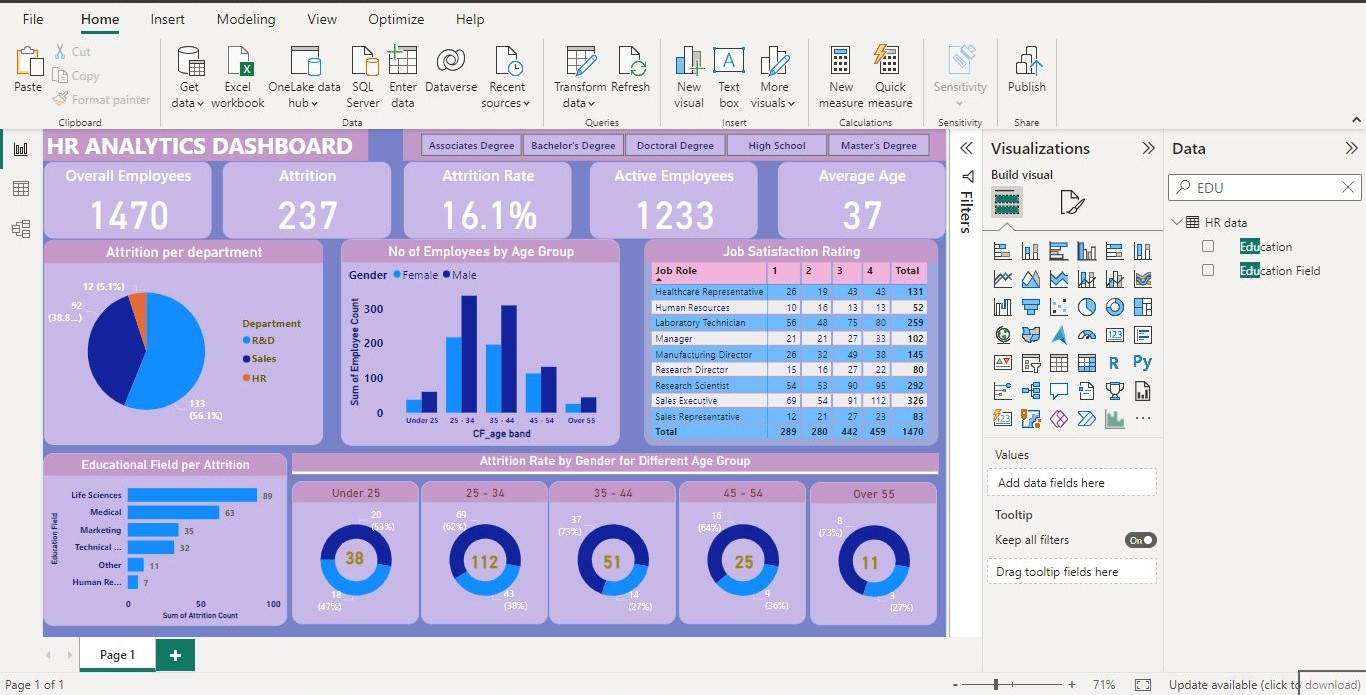

The page's visual inventory and layout, read from the dashboard file:
{"tool":"powerbi","page":{"name":"Page 1","canvas":[1280,720],"ordinal":0},"visuals":[{"type":"card","title":"Overall Employees","fields":{"Values":["Sum(HR data.Employee Count)"]},"box":[0,45.4,239.5,110.6],"z":0},{"type":"card","title":"Attrition Rate ","fields":{"Values":["HR data.Attrition Rate"]},"box":[510.2,45.4,239.5,110.6],"z":1000},{"type":"card","title":"Attrition","fields":{"Values":["Sum(HR data.Attrition Count)"]},"box":[253.7,45.4,240.9,110.6],"z":2000},{"type":"card","title":"Active Employees","fields":{"Values":["HR data.Active Employees"]},"box":[773.9,45.4,239.5,110.6],"z":3000},{"type":"card","title":"Average Age ","fields":{"Values":["Avg(HR data.Age)"]},"box":[1040.3,45.4,239.5,110.6],"z":4000},{"type":"pieChart","title":"Attrition per department ","fields":{"Category":["HR data.Department"],"Y":["Sum(HR data.Attrition Count)"]},"box":[0,155.9,398.3,293.4],"z":5000},{"type":"clusteredColumnChart","title":"No of Employees by Age Group","fields":{"Category":["HR data.CF_age band"],"Y":["Sum(HR data.Employee Count)"],"Series":["HR data.Gender"]},"box":[422.4,155.9,395.4,293.4],"z":6000},{"type":"pivotTable","title":"Job Satisfaction Rating","fields":{"Rows":["HR data.Job Role"],"Columns":["HR data.Job Satisfaction"],"Values":["Sum(HR data.Employee Count)"]},"box":[851.8,155.9,416.7,293.4],"z":7000},{"type":"barChart","title":"Educational Field per Attrition ","fields":{"Category":["HR data.Education Field"],"Y":["Sum(HR data.Attrition Count)"]},"box":[0,459.2,345.8,245.2],"z":8000},{"type":"donutChart","title":"Under 25","fields":{"Category":["HR data.Gender"],"Y":["Sum(HR data.Attrition Count)"],"Series":["HR data.CF_age band"]},"box":[352.9,498.9,180,203],"z":9000},{"type":"textbox","title":"Attrition Rate by Gender for Different Age Group","box":[352.9,459.2,915.6,29.8],"z":10000},{"type":"donutChart","title":"25 - 34","fields":{"Category":["HR data.Gender"],"Y":["Sum(HR data.Attrition Count)"],"Series":["HR data.CF_age band"]},"box":[535.7,498.9,180,202.7],"z":11000},{"type":"donutChart","title":"35 - 44","fields":{"Category":["HR data.Gender"],"Y":["Sum(HR data.Attrition Count)"],"Series":["HR data.CF_age band"]},"box":[717.2,498.9,180,202.7],"z":12000},{"type":"donutChart","title":"45 - 54","fields":{"Category":["HR data.Gender"],"Y":["Sum(HR data.Attrition Count)"],"Series":["HR data.CF_age band"]},"box":[901.4,498.9,180,202.7],"z":13000},{"type":"donutChart","title":"Over 55","fields":{"Category":["HR data.Gender"],"Y":["Sum(HR data.Attrition Count)"],"Series":["HR data.CF_age band"]},"box":[1087.1,500.3,180,202.7],"z":14000},{"type":"card","fields":{"Values":["Sum(HR data.Attrition Count)"]},"box":[423.2,587.3,36.3,39.7],"z":15000},{"type":"card","fields":{"Values":["Sum(HR data.Attrition Count)"]},"box":[599.4,592.5,51.8,39.7],"z":15001},{"type":"card","fields":{"Values":["Sum(HR data.Attrition Count)"]},"box":[780.8,592.5,51.8,39.7],"z":15002},{"type":"card","fields":{"Values":["Sum(HR data.Attrition Count)"]},"box":[967.3,592.5,51.8,39.7],"z":15003},{"type":"card","fields":{"Values":["Sum(HR data.Attrition Count)"]},"box":[1147,594.2,51.8,39.7],"z":15004},{"type":"textbox","title":"HR ANALYTICS DASHBOARD ","box":[0,0,460.6,45.4],"z":15005},{"type":"slicer","fields":{"Values":["HR data.Education"]},"box":[510.2,0,769.6,45.4],"z":15006}]}

Visuals, with their boxes on the page's 1280x720 design canvas (x1, y1, x2, y2). These are canvas units, not pixel positions in the 1366x695 screenshot, which may show the page scaled, cropped or inside an application window:
"Overall Employees" card: left=0, top=45, right=240, bottom=156
"Attrition Rate " card: left=510, top=45, right=750, bottom=156
"Attrition" card: left=254, top=45, right=495, bottom=156
"Active Employees" card: left=774, top=45, right=1013, bottom=156
"Average Age " card: left=1040, top=45, right=1280, bottom=156
"Attrition per department " pieChart: left=0, top=156, right=398, bottom=449
"No of Employees by Age Group" clusteredColumnChart: left=422, top=156, right=818, bottom=449
"Job Satisfaction Rating" pivotTable: left=852, top=156, right=1268, bottom=449
"Educational Field per Attrition " barChart: left=0, top=459, right=346, bottom=704
"Under 25" donutChart: left=353, top=499, right=533, bottom=702
"Attrition Rate by Gender for Different Age Group" textbox: left=353, top=459, right=1268, bottom=489
"25 - 34" donutChart: left=536, top=499, right=716, bottom=702
"35 - 44" donutChart: left=717, top=499, right=897, bottom=702
"45 - 54" donutChart: left=901, top=499, right=1081, bottom=702
"Over 55" donutChart: left=1087, top=500, right=1267, bottom=703
card - Sum(HR data.Attrition Count): left=423, top=587, right=460, bottom=627
card - Sum(HR data.Attrition Count): left=599, top=592, right=651, bottom=632
card - Sum(HR data.Attrition Count): left=781, top=592, right=833, bottom=632
card - Sum(HR data.Attrition Count): left=967, top=592, right=1019, bottom=632
card - Sum(HR data.Attrition Count): left=1147, top=594, right=1199, bottom=634
"HR ANALYTICS DASHBOARD " textbox: left=0, top=0, right=461, bottom=45
slicer - HR data.Education: left=510, top=0, right=1280, bottom=45
